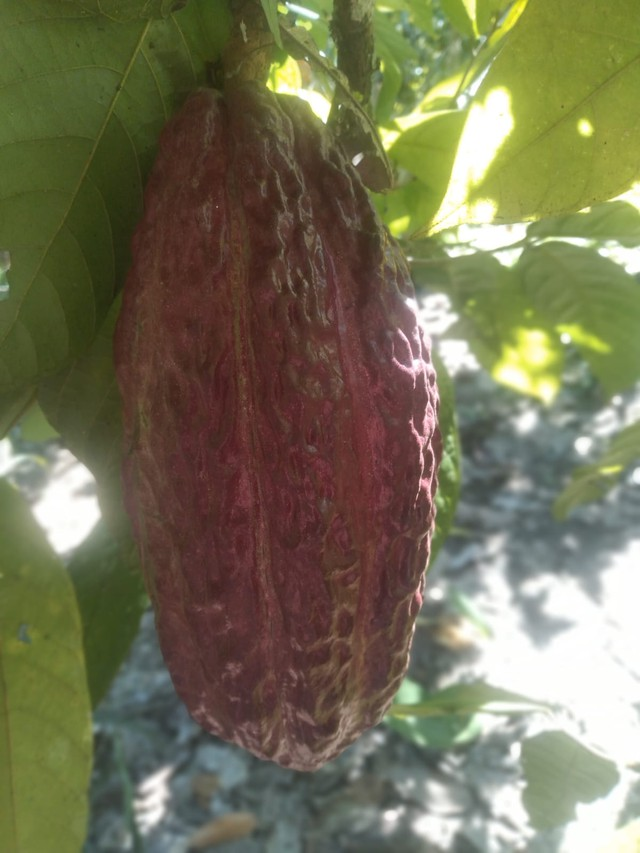Health: (95, 55, 459, 787)
